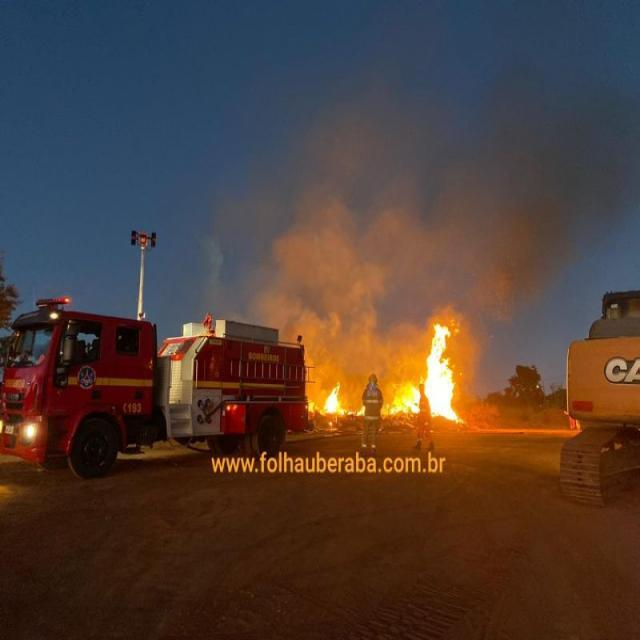Fire: (425, 310, 468, 424), (382, 374, 422, 419), (321, 382, 346, 417), (346, 403, 366, 417), (306, 396, 318, 414)
Smoke: (382, 94, 546, 310), (258, 210, 386, 326), (304, 95, 384, 208), (308, 307, 422, 378), (582, 100, 636, 238), (548, 94, 580, 282)
